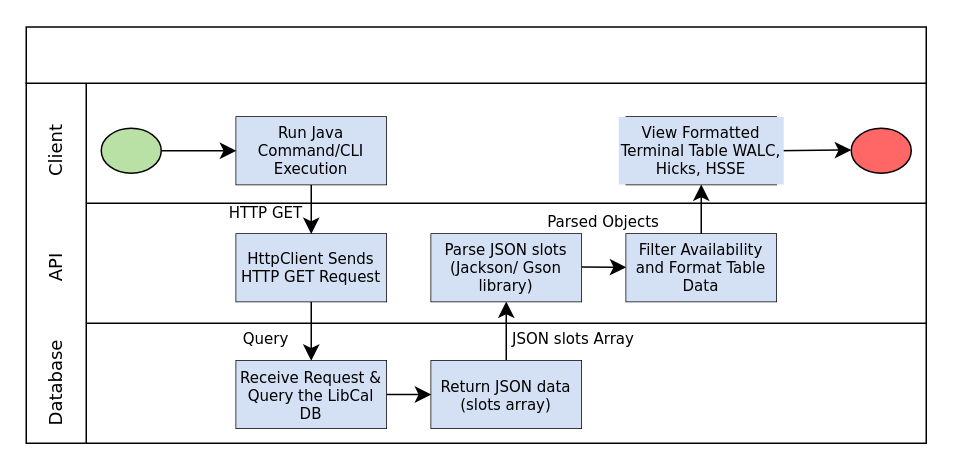
Image size: 953x470. Some labels were removed from this diagram. Here are the shapes that lost their labels. From the top down, the box of each, then its label:
(25, 26, 926, 83): FLOWCHART
(100, 127, 161, 173): Start
(850, 127, 911, 173): End
